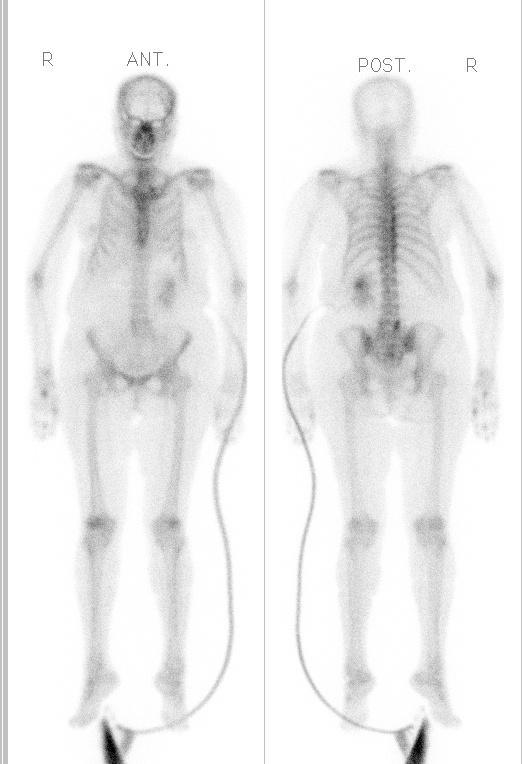person: (7, 1, 521, 764)
